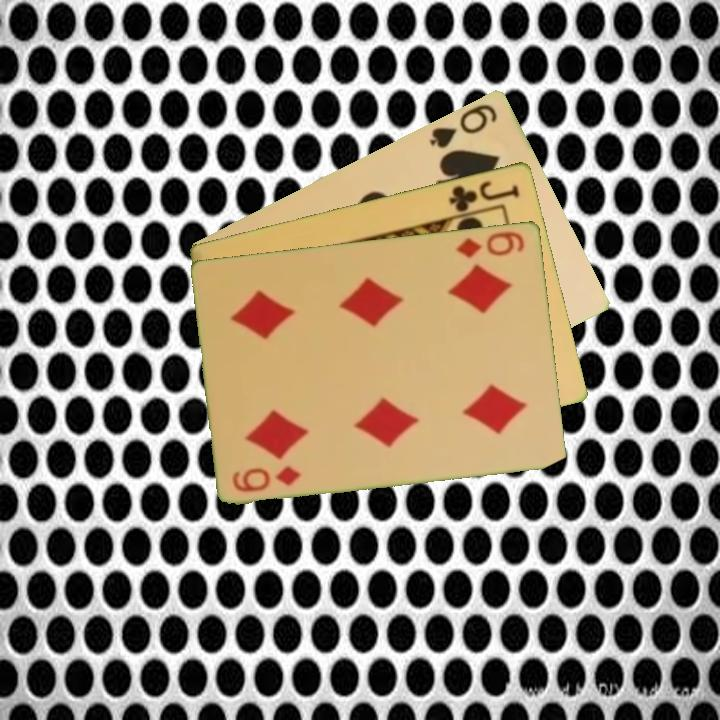6d: (229, 461, 305, 495), (453, 227, 528, 260)
6s: (426, 100, 500, 151)
Jc: (445, 176, 523, 215)
